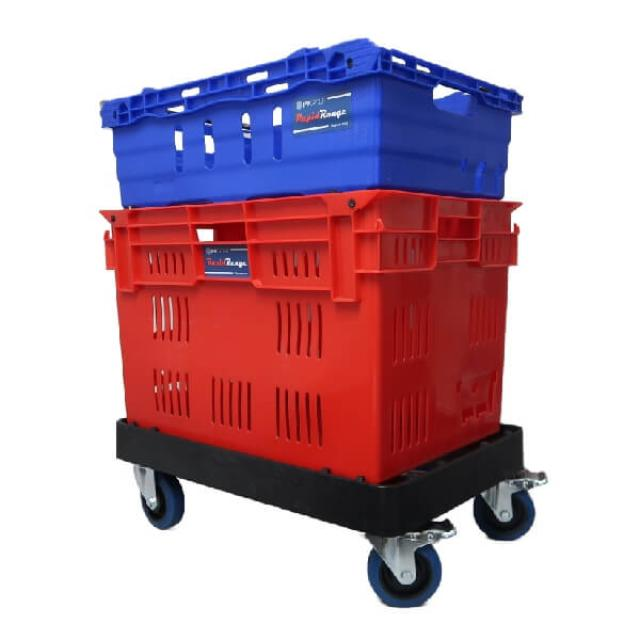basket: (80, 166, 523, 494), (99, 35, 526, 207)
